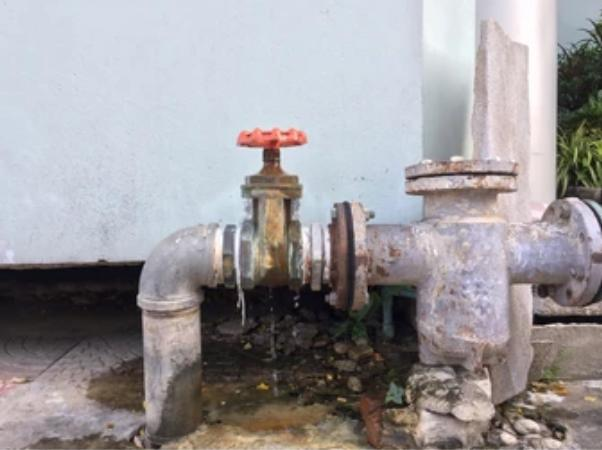water accumulation: (85, 339, 388, 430), (14, 435, 140, 450)
